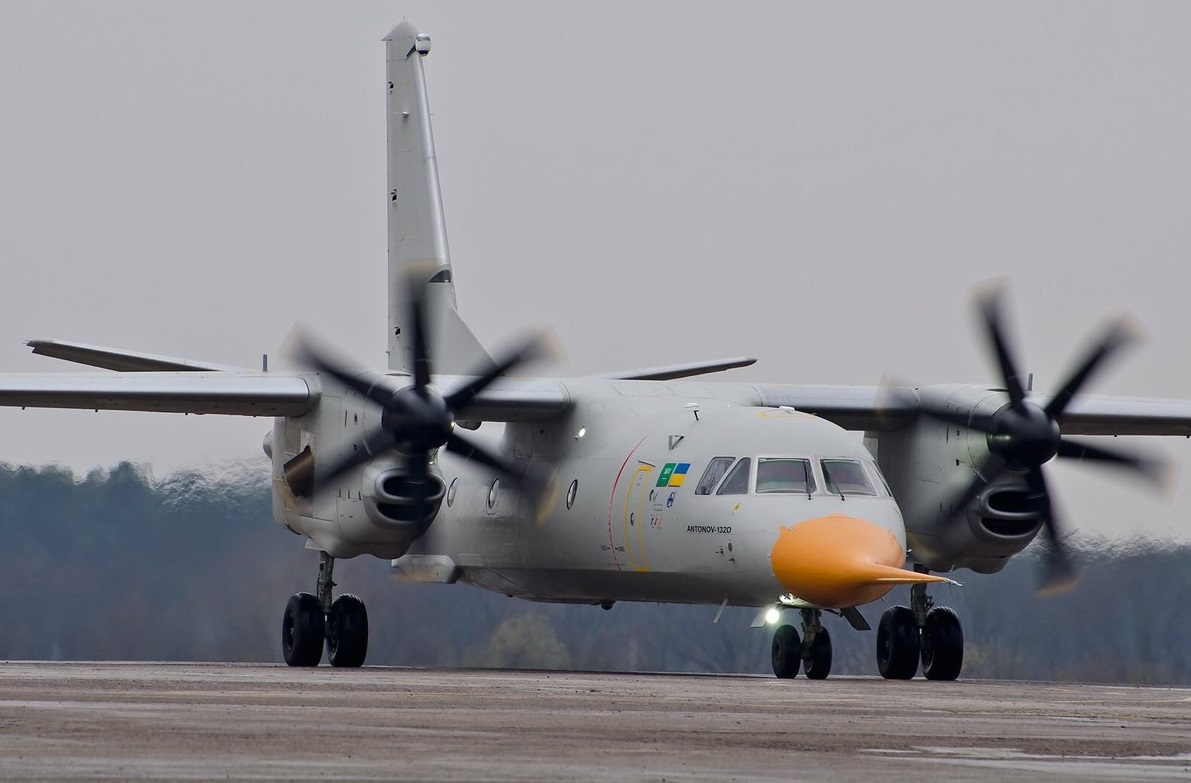Propeller: (908, 305, 1177, 557), (271, 311, 563, 539)
